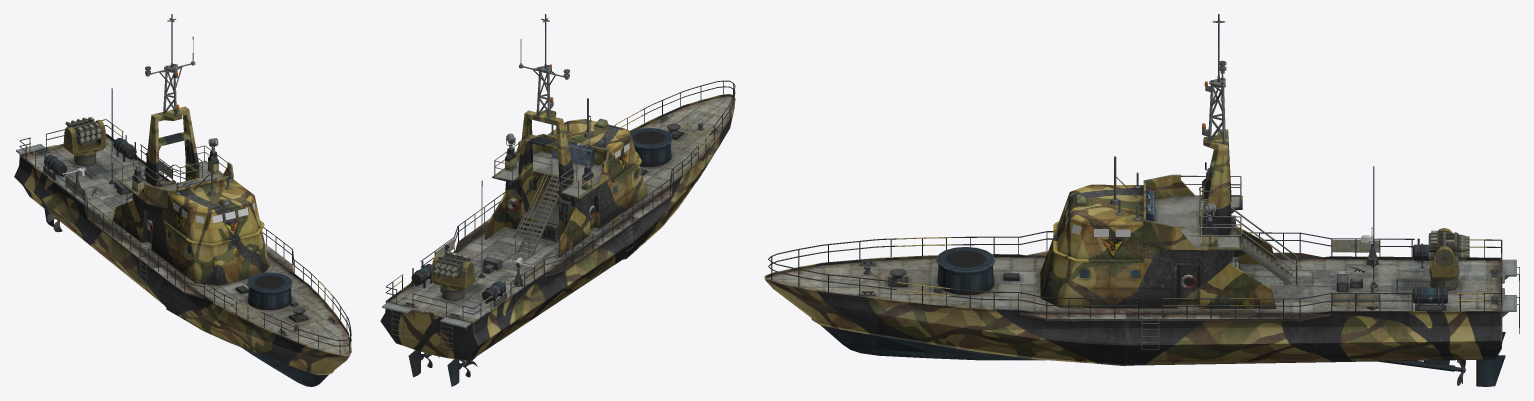
Rendered from Gunboat.obj.
3 views of the same model, side by side, from view 1: azimuth 30°, elevation 25°; view 2: azimuth 150°, elevation 25°; view 3: azimuth 270°, elevation 25° (orthographic). The views are drawn at different scales.
Parts seen in each view (by area): view 1: DrawCall_0657, DrawCall_0652, DrawCall_0668, DrawCall_0671, DrawCall_0672, DrawCall_0781; view 2: DrawCall_0657, DrawCall_0652, DrawCall_0668, DrawCall_0671, DrawCall_0672, DrawCall_0666, DrawCall_0658; view 3: DrawCall_0652, DrawCall_0657, DrawCall_0668, DrawCall_0672, DrawCall_0671, DrawCall_0654.
Boxes of the visible parts, x1,y1,x2,y2 form: DrawCall_0657: [22, 14, 350, 355]; DrawCall_0652: [14, 88, 351, 386]; DrawCall_0668: [16, 144, 269, 285]; DrawCall_0671: [63, 120, 106, 156]; DrawCall_0672: [65, 117, 101, 145]; DrawCall_0781: [173, 202, 255, 223]; DrawCall_0657: [388, 14, 733, 322]; DrawCall_0652: [380, 80, 735, 360]; DrawCall_0668: [382, 119, 647, 329]; DrawCall_0671: [431, 254, 475, 290]; DrawCall_0672: [433, 251, 470, 278]; DrawCall_0666: [552, 138, 594, 166]; DrawCall_0658: [391, 223, 633, 349]; DrawCall_0652: [764, 166, 1502, 371]; DrawCall_0657: [766, 14, 1500, 321]; DrawCall_0668: [1040, 184, 1516, 317]; DrawCall_0672: [1428, 230, 1469, 260]; DrawCall_0671: [1429, 228, 1458, 278]; DrawCall_0654: [1476, 355, 1505, 386].
Size of the model in its own units: 7.42 by 18.07 by 34.49.
